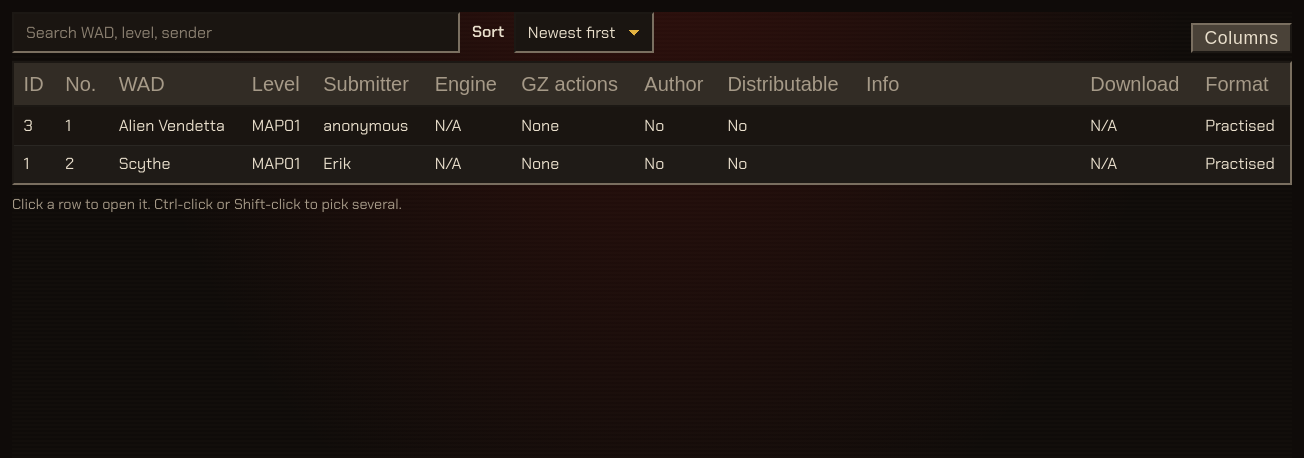
Test: SubmissionTables › says when nothing matches the search
Type "plutonia" into the search field named "Search entries" at (236, 32), box left=12, top=12, right=460, bottom=53
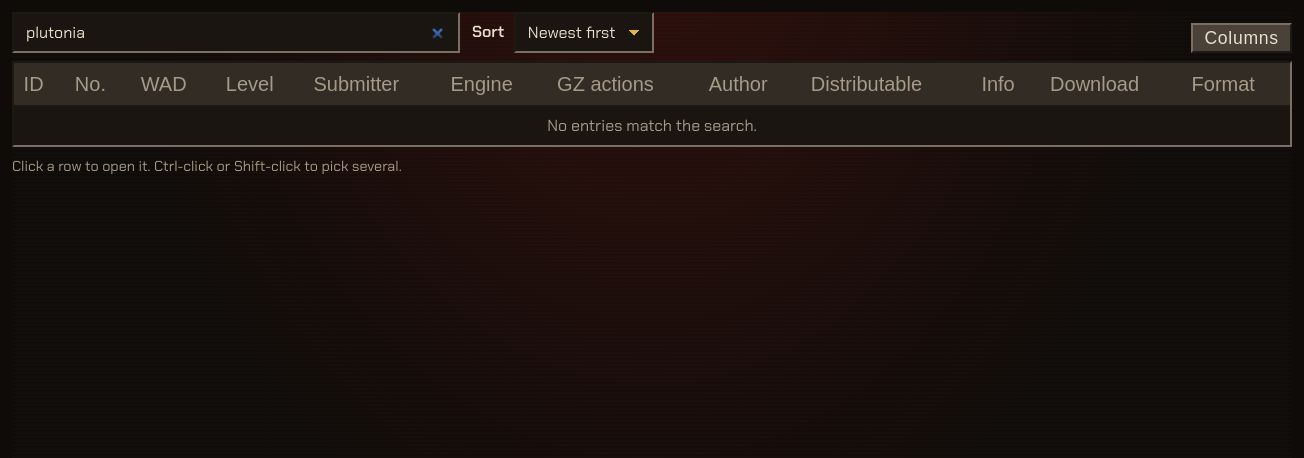
Check: the text "No entries match the search." is shown, box left=14, top=106, right=1290, bottom=145
